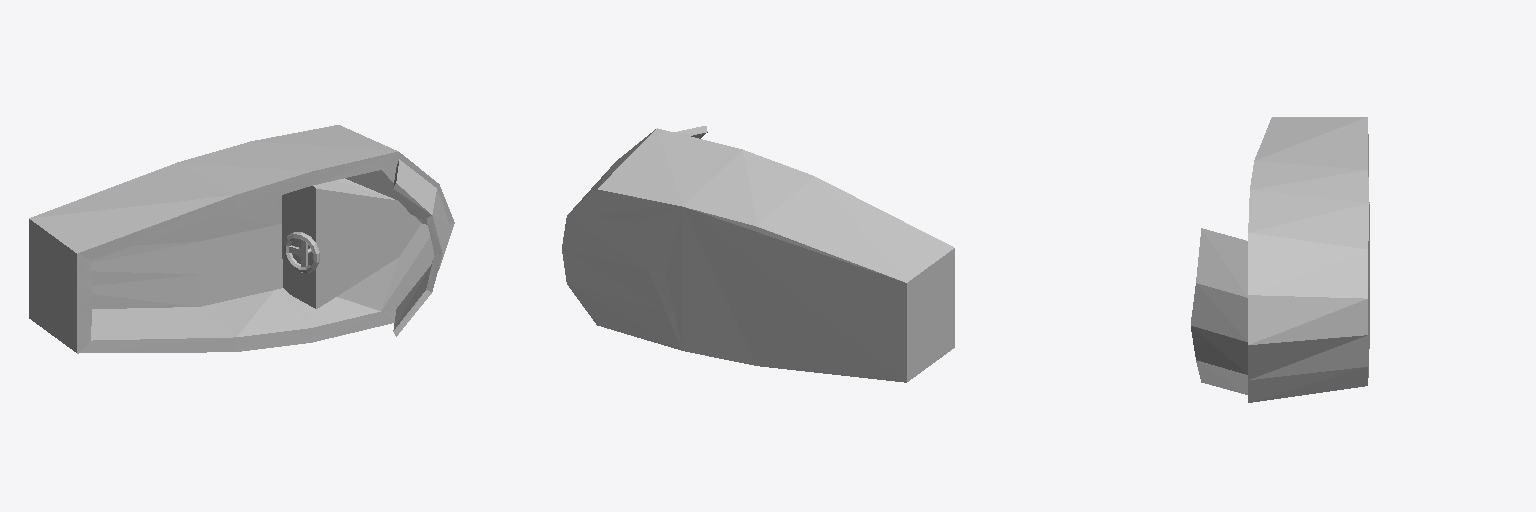
The model's file is boat.obj.
3 renders of one model, left to right at view 1: azimuth 30°, elevation 25°; view 2: azimuth 150°, elevation 25°; view 3: azimuth 270°, elevation 25°, orthographic.
Parts seen in each view (by area): view 1: Racing_Boat_Cube, Hitbox_Cube.001; view 2: Hitbox_Cube.001, Racing_Boat_Cube; view 3: Hitbox_Cube.001, Racing_Boat_Cube.
Part boxes in pixels (x1,y1,x2,y2): Racing_Boat_Cube: (29, 152, 454, 353); Hitbox_Cube.001: (29, 125, 398, 352); Hitbox_Cube.001: (567, 128, 954, 382); Racing_Boat_Cube: (562, 126, 954, 381); Hitbox_Cube.001: (1248, 117, 1369, 402); Racing_Boat_Cube: (1191, 206, 1369, 394).
Bounding box in the file's own units: 4.49 × 2.01 × 1.9.